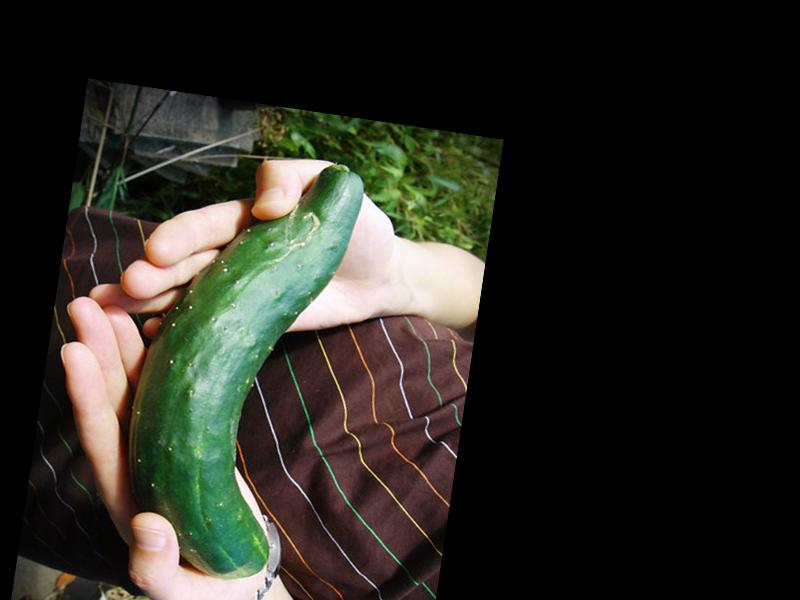Cucumber: (109, 142, 367, 590)
